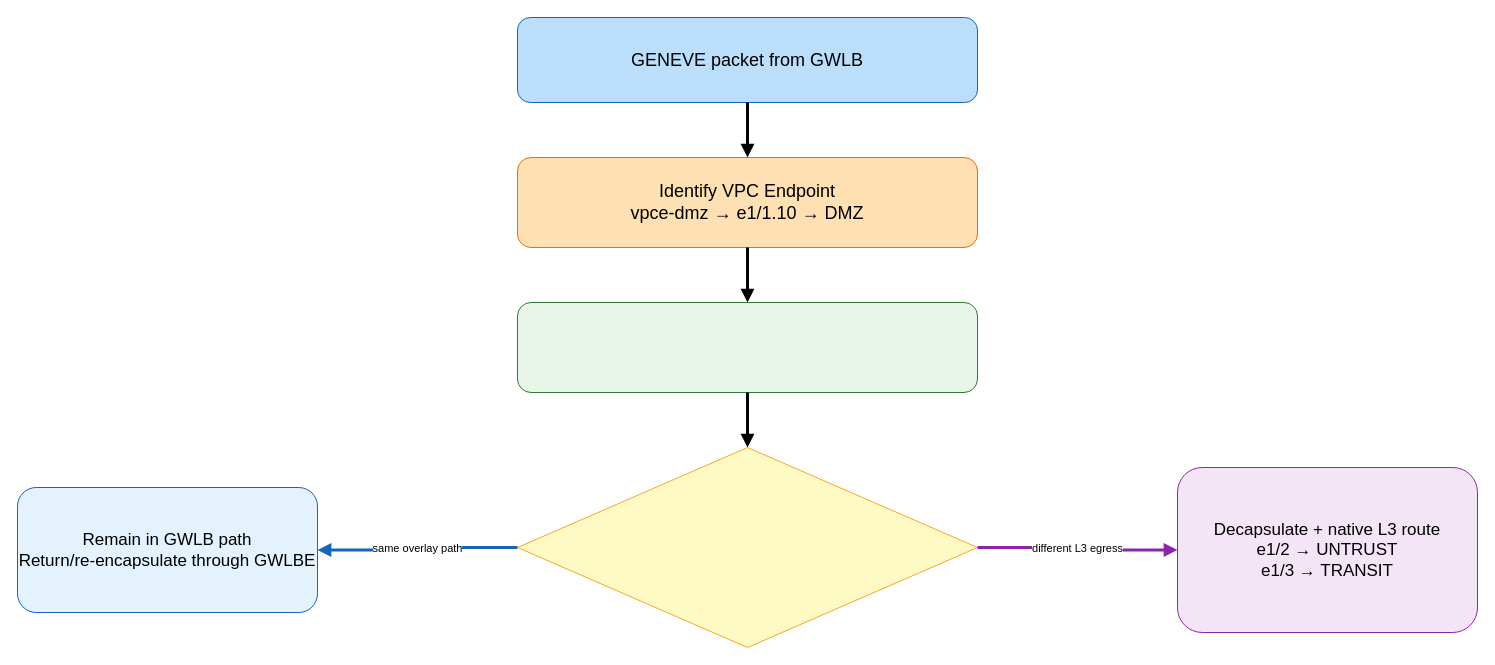
Image size: 1495x665. Some labels were removed from this diagram. The shapes that lost their labels are listed below. From the top down, each one's centre as x and y in pixels, then its label:
the point at 747,347: Session + Security Policy App-ID / zones / profiles / NAT
the point at 747,547: INNER-HEADER L3 ROUTE LOOKUP Where should the original destination go?
